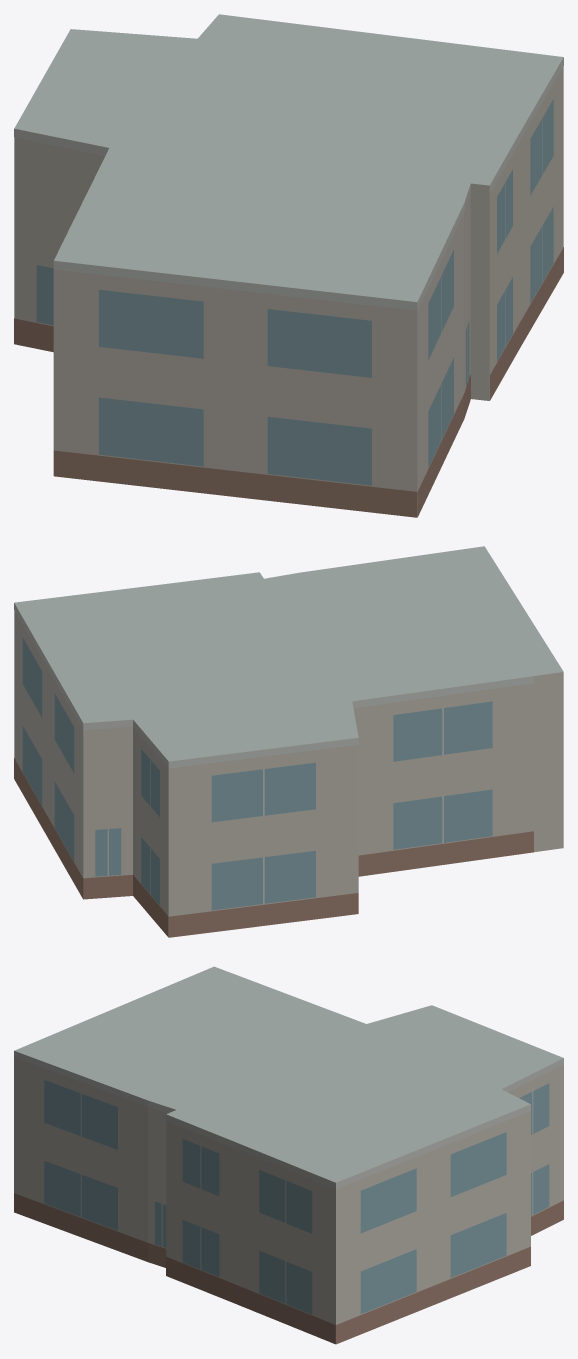
File: survey-upis-32625310.glb
3 renders of one model, top to bottom at view 1: azimuth 30°, elevation 25°; view 2: azimuth 150°, elevation 25°; view 3: azimuth 270°, elevation 25°, orthographic. The views are drawn at different scales.
Parts seen in each view (by area): view 1: survey-upis-32625310.tmp; view 2: survey-upis-32625310.tmp; view 3: survey-upis-32625310.tmp.
Part boxes in pixels (box(x1,y1,x2,y2)): survey-upis-32625310.tmp: box(14, 14, 563, 517); survey-upis-32625310.tmp: box(14, 546, 563, 937); survey-upis-32625310.tmp: box(14, 966, 563, 1344).
Bounding box in the file's own units: 17.52 × 6.1 × 18.81.
